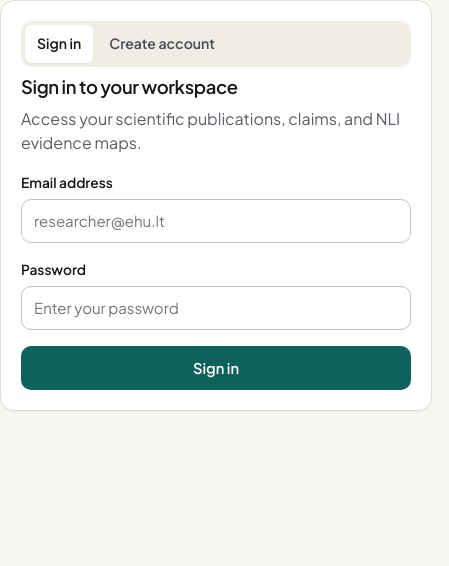
Test case: AuthForm › enforces display name and 8+ char password in register mode
The width and height of the screenshot is (449, 566).
Later steps or results of the test are not shown.
Step 1. Click the tab "Create account" → (162, 44), box [97, 25, 227, 63]
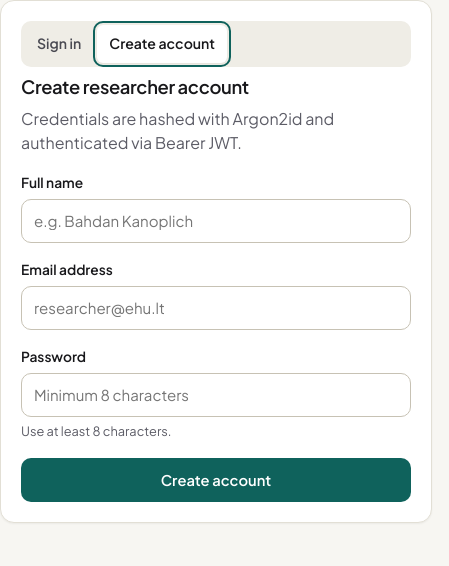
Step 2. Type "scholar@ehu.lt" into the field labelled "Email address" → (216, 308), box [21, 286, 411, 330]
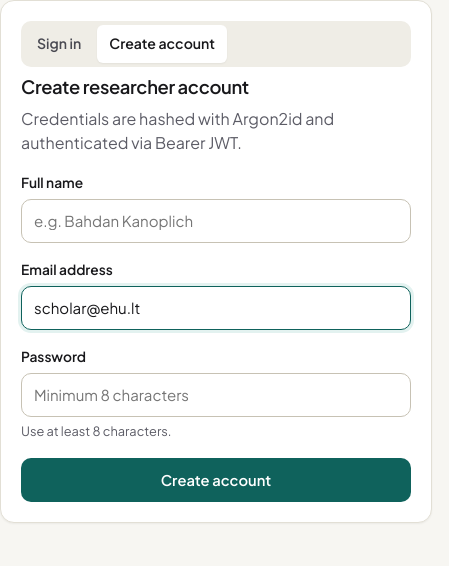
Step 3. Type "short" into the password field labelled "Password" → (216, 395), box [21, 373, 411, 417]
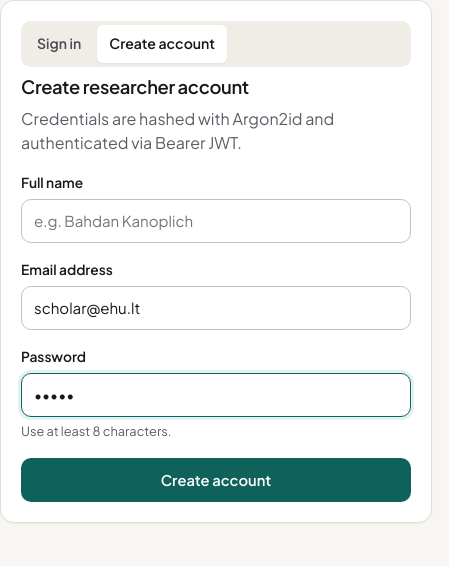
Step 4. Click the button "Create account" → (216, 480), box [21, 458, 411, 502]
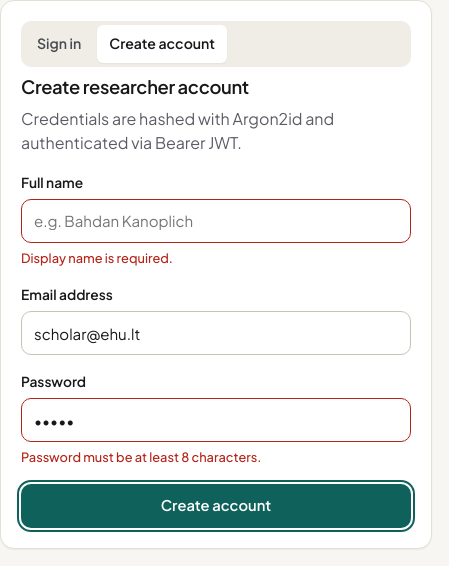
Result: the text "Display name is required." is shown at [21, 250, 173, 266]
Result: the text "Password must be at least 8 characters." is shown at [21, 449, 261, 465]
